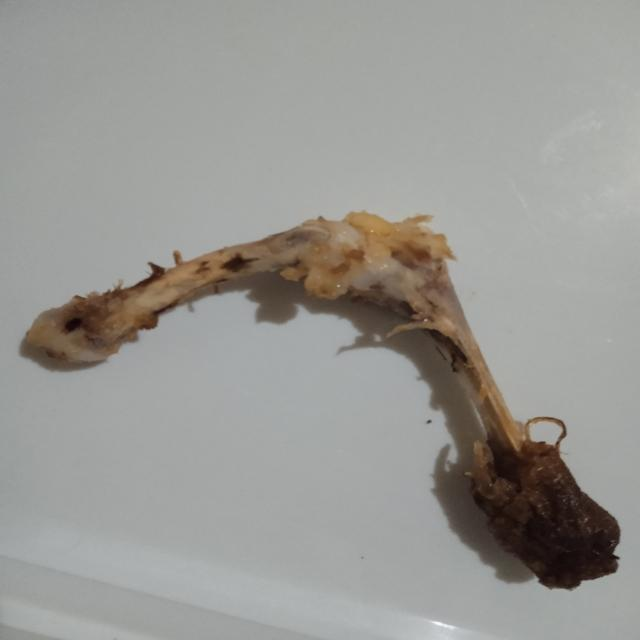bone: (11, 200, 640, 602)
